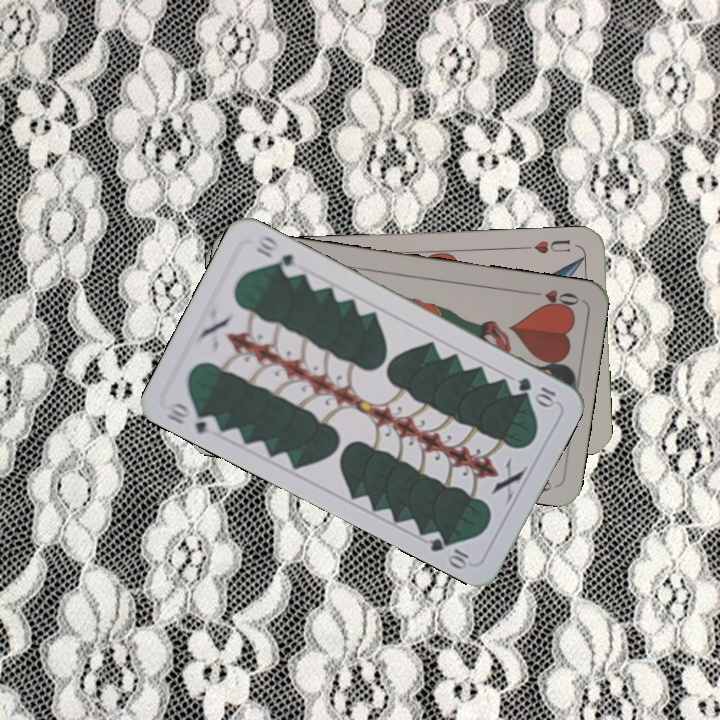G10: (162, 399, 222, 437), (513, 373, 559, 409)
HO: (524, 285, 582, 312)
HU: (530, 235, 573, 257)
